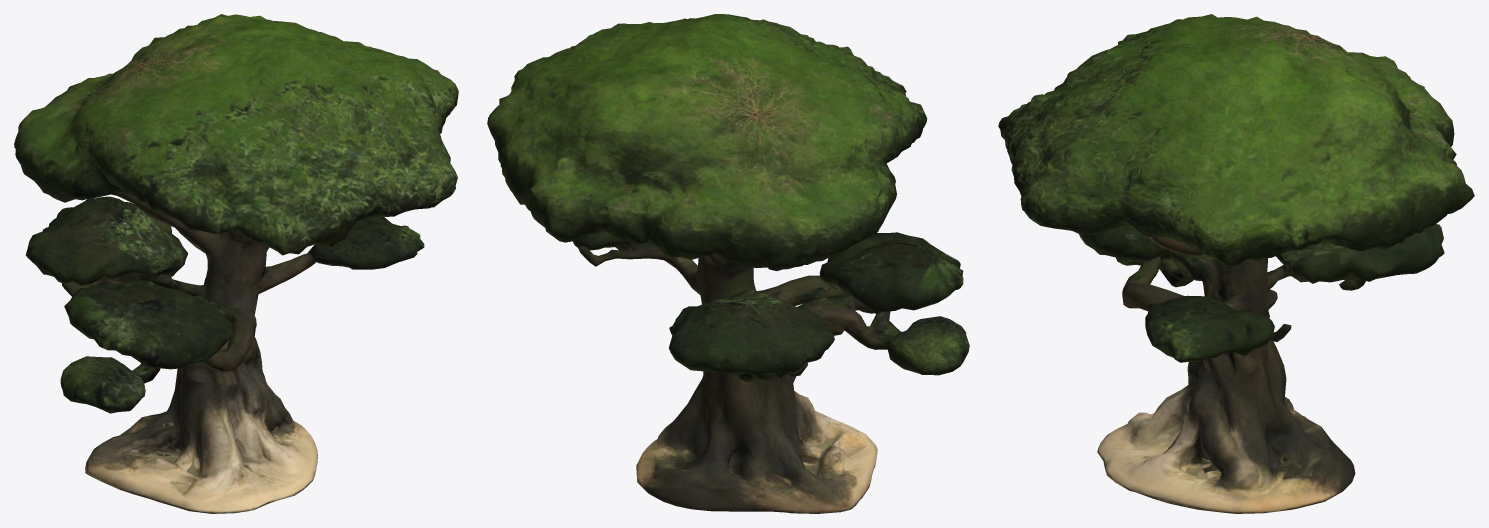
Rendered from stylized-tree.glb.
3 renders of one model, left to right at view 1: azimuth 30°, elevation 25°; view 2: azimuth 150°, elevation 25°; view 3: azimuth 270°, elevation 25°, orthographic. The views are drawn at different scales.
Visible parts, largest first — view 1: Mesh1; view 2: Mesh1; view 3: Mesh1.
Boxes of the visible parts, bbox=[...] form: Mesh1: bbox=[14, 14, 458, 513]; Mesh1: bbox=[487, 14, 969, 513]; Mesh1: bbox=[998, 14, 1474, 513].
Size of the model in its own units: 1.99 by 1.88 by 1.85.
1 material, 1 textured.
